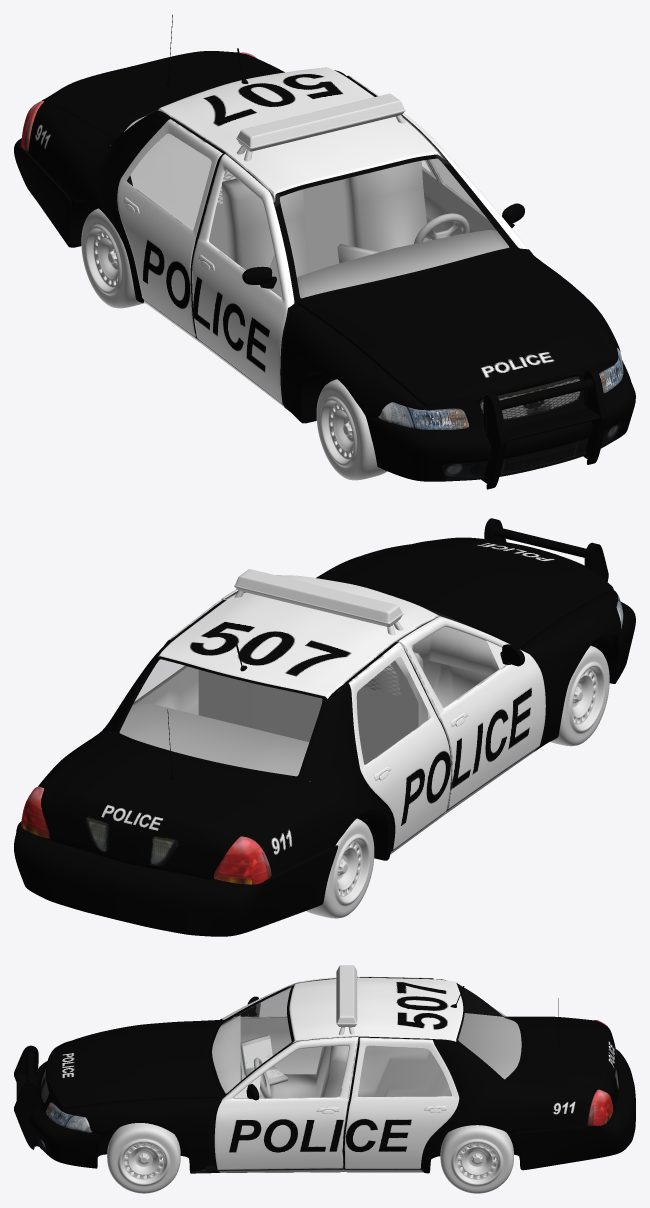
The model's file is PoliceCar.fbx.
3 views of the same model, one above another, from view 1: azimuth 30°, elevation 25°; view 2: azimuth 150°, elevation 25°; view 3: azimuth 270°, elevation 25° (orthographic). The views are drawn at different scales.
Visible parts, largest first — view 1: CrownVic.Body, windows glass, interior, CrownVic.Wheel.Ft.R, Roof light bar, CrownVic.Wheel.Bk.R; view 2: CrownVic.Body, windows glass, interior, Roof light bar, CrownVic.Wheel.Bk.R, CrownVic.Wheel.Ft.R; view 3: CrownVic.Body, windows glass, interior, CrownVic.Wheel.Ft.L, CrownVic.Wheel.Bk.L, Roof light bar.
Part boxes in pixels (box(x1,y1,x2,y2)): CrownVic.Body: box(14, 14, 635, 489); windows glass: box(126, 109, 508, 297); interior: box(110, 116, 509, 298); CrownVic.Wheel.Ft.R: box(316, 379, 386, 480); Roof light bar: box(236, 93, 405, 161); CrownVic.Wheel.Bk.R: box(81, 208, 144, 308); CrownVic.Body: box(14, 518, 635, 936); windows glass: box(120, 607, 498, 775); interior: box(119, 615, 498, 781); Roof light bar: box(234, 569, 403, 635); CrownVic.Wheel.Bk.R: box(306, 818, 374, 918); CrownVic.Wheel.Ft.R: box(550, 645, 609, 746); CrownVic.Body: box(14, 976, 635, 1173); windows glass: box(212, 985, 521, 1098); interior: box(212, 1013, 521, 1100); CrownVic.Wheel.Ft.L: box(107, 1123, 180, 1193); CrownVic.Wheel.Bk.L: box(440, 1125, 513, 1193); Roof light bar: box(336, 965, 357, 1035).
Size of the model in its own units: 248 by 198 by 670.
Materials: 7 (2 with a texture image).
